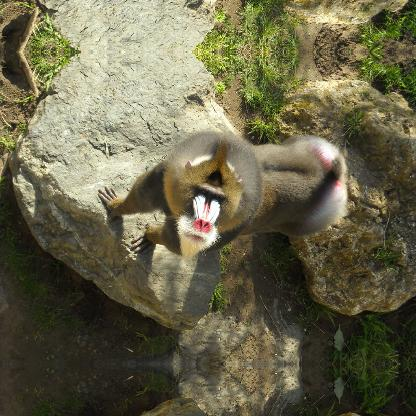Monkey: (96, 121, 344, 303)
